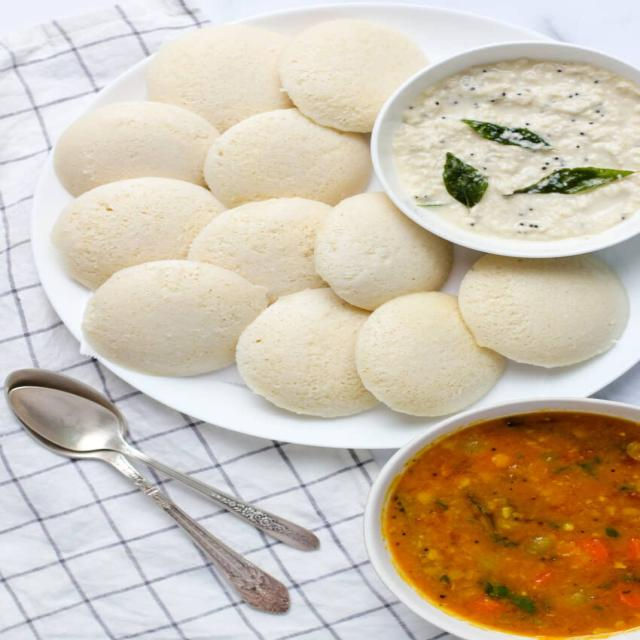Idly: (63, 248, 270, 384), (457, 244, 640, 381), (228, 281, 398, 428), (352, 286, 502, 421), (46, 89, 220, 204), (48, 172, 229, 282), (304, 188, 461, 314), (206, 97, 382, 209), (289, 9, 434, 136), (181, 186, 331, 303), (143, 19, 288, 128)
